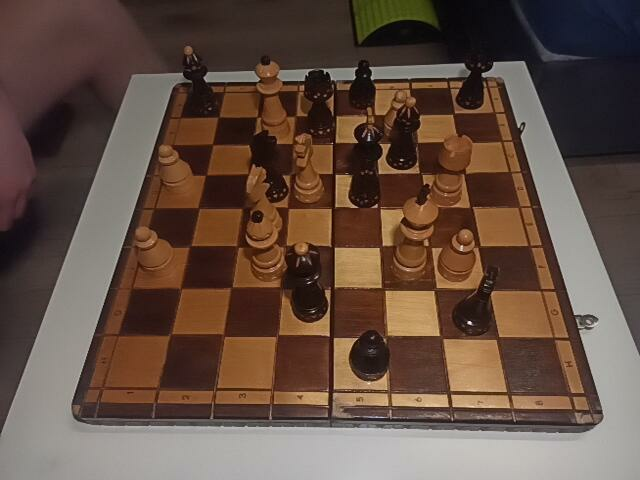B-Bishop: (181, 44, 216, 116), (389, 97, 419, 168)
B-King: (349, 109, 383, 208)
B-Knight: (455, 264, 500, 337), (248, 131, 288, 203)
B-Pawn: (349, 332, 389, 383), (349, 60, 377, 109)
B-Queen: (288, 242, 328, 322)
B-Rook: (458, 43, 494, 109), (303, 70, 337, 137)
W-Bishop: (246, 212, 285, 280)
W-King: (391, 184, 437, 285)
W-Knight: (245, 163, 282, 237), (291, 134, 324, 203)
W-Pawn: (133, 226, 176, 277), (440, 230, 477, 283), (157, 144, 195, 195), (384, 90, 416, 140)
W-Queen: (253, 55, 292, 137)
W-Rook: (432, 135, 471, 207)
